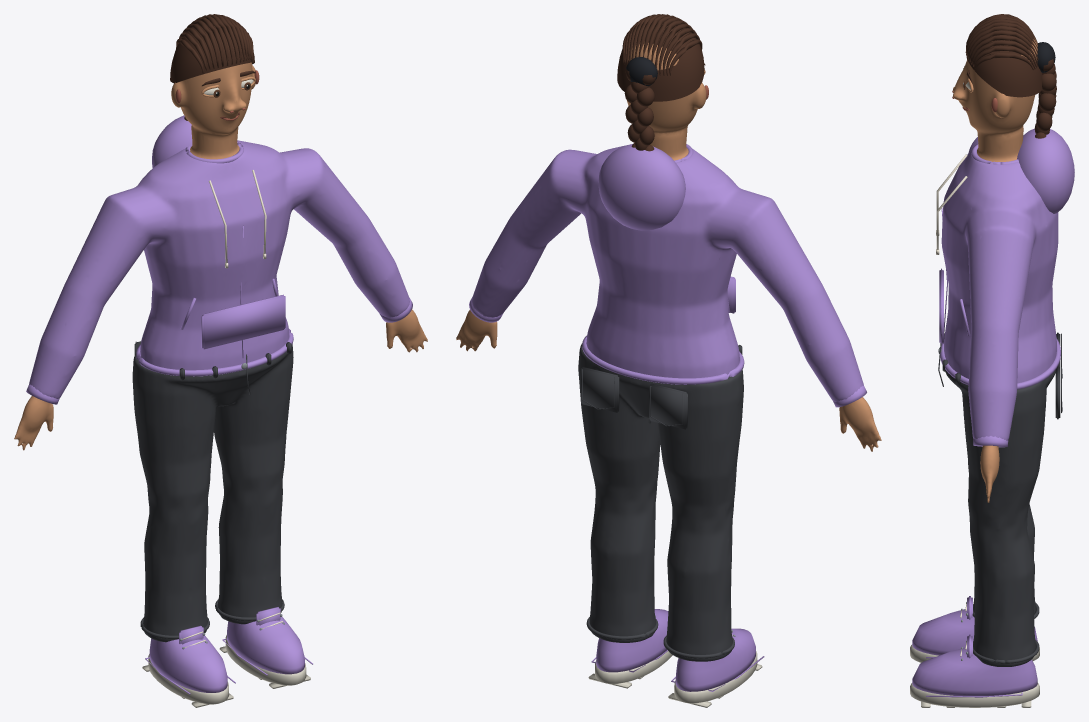
The model's file is NPC2_04_Civil_Female_Lavender.fbx.
The picture shows the model from 3 angles, left to right: view 1: azimuth 30°, elevation 25°; view 2: azimuth 150°, elevation 25°; view 3: azimuth 270°, elevation 25°; orthographic projection. The views are drawn at different scales.
Parts seen in each view (by area): view 1: Garment_Top_Continuous.005, Trouser_Continuous.005, Skin_04_Civil_Female_Lavender, Shoe_Upper.010, Shoe_Upper.011, Kangaroo_Pocket, Hair_Cap.005, Hood_Back, Top_Hem.005, Shoe_Sole.011, Shoe_Sole.010; view 2: Garment_Top_Continuous.005, Trouser_Continuous.005, Hood_Back, Skin_04_Civil_Female_Lavender, Shoe_Upper.010, Hair_Cap.005, Shoe_Upper.011, Back_Pocket.010, Back_Pocket.011, Top_Hem.005, Shoe_Sole.010, Shoe_Sole.011; view 3: Garment_Top_Continuous.005, Trouser_Continuous.005, Skin_04_Civil_Female_Lavender, Shoe_Upper.011, Hood_Back, Hair_Cap.005, Shoe_Upper.010, Shoe_Sole.011, Top_Hem.005, Hair_Tie.001, Hair_SweptLock.101, Hair_SweptLock.021 (+11 smaller).
Part boxes in pixels (x1,y1,x2,y2): Garment_Top_Continuous.005: [29, 140, 409, 398]; Trouser_Continuous.005: [132, 344, 293, 642]; Skin_04_Civil_Female_Lavender: [14, 62, 427, 450]; Shoe_Upper.010: [149, 635, 227, 692]; Shoe_Upper.011: [227, 616, 304, 674]; Kangaroo_Pocket: [201, 294, 285, 349]; Hair_Cap.005: [170, 24, 254, 83]; Hood_Back: [152, 115, 192, 167]; Top_Hem.005: [136, 329, 293, 376]; Shoe_Sole.011: [225, 635, 306, 685]; Shoe_Sole.010: [148, 654, 228, 704]; Garment_Top_Continuous.005: [472, 145, 863, 401]; Trouser_Continuous.005: [578, 343, 743, 661]; Hood_Back: [598, 144, 685, 230]; Skin_04_Civil_Female_Lavender: [456, 42, 881, 451]; Shoe_Upper.010: [675, 628, 755, 691]; Hair_Cap.005: [617, 24, 704, 101]; Shoe_Upper.011: [596, 609, 668, 672]; Back_Pocket.010: [649, 383, 687, 429]; Back_Pocket.011: [581, 367, 619, 412]; Top_Hem.005: [582, 335, 744, 384]; Shoe_Sole.010: [674, 651, 757, 703]; Shoe_Sole.011: [595, 651, 672, 684]; Garment_Top_Continuous.005: [941, 137, 1058, 440]; Trouser_Continuous.005: [945, 370, 1055, 666]; Skin_04_Civil_Female_Lavender: [953, 38, 1037, 502]; Shoe_Upper.011: [912, 647, 1037, 696]; Hood_Back: [1017, 129, 1074, 213]; Hair_Cap.005: [966, 36, 1042, 97]; Shoe_Upper.010: [912, 609, 1037, 655]; Shoe_Sole.011: [910, 683, 1039, 707]; Top_Hem.005: [940, 338, 1060, 389]; Hair_Tie.001: [1037, 42, 1055, 72]; Hair_SweptLock.101: [969, 35, 1038, 66]; Hair_SweptLock.021: [968, 30, 1038, 60].
Bounding box in the file's own units: 1.16 × 1.74 × 0.3918.
